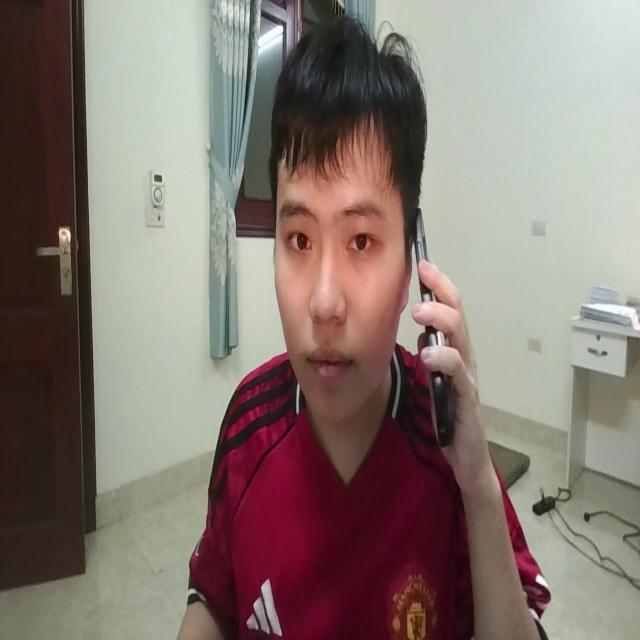phone: (414, 198, 451, 449)
student: (183, 1, 543, 640)
